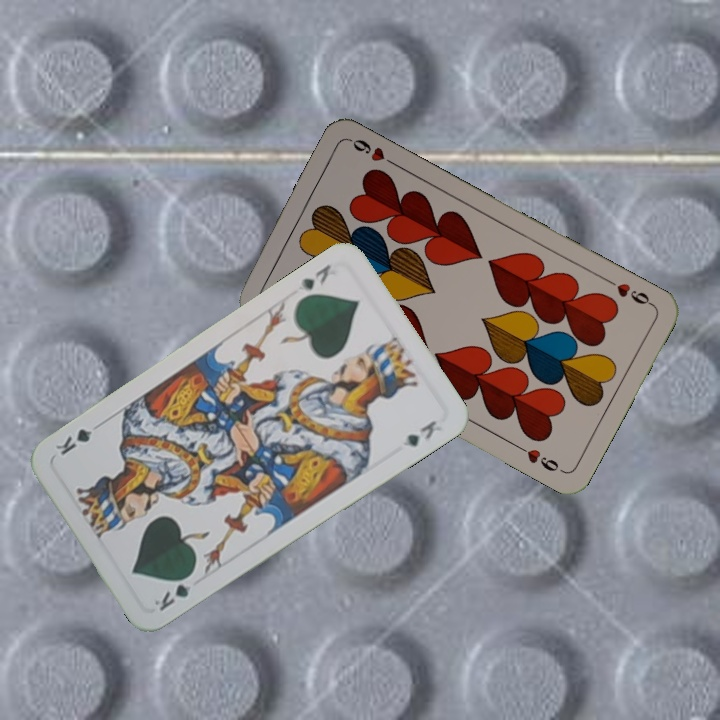GK: (150, 568, 198, 614), (296, 260, 334, 293)
H9: (602, 274, 656, 309)
